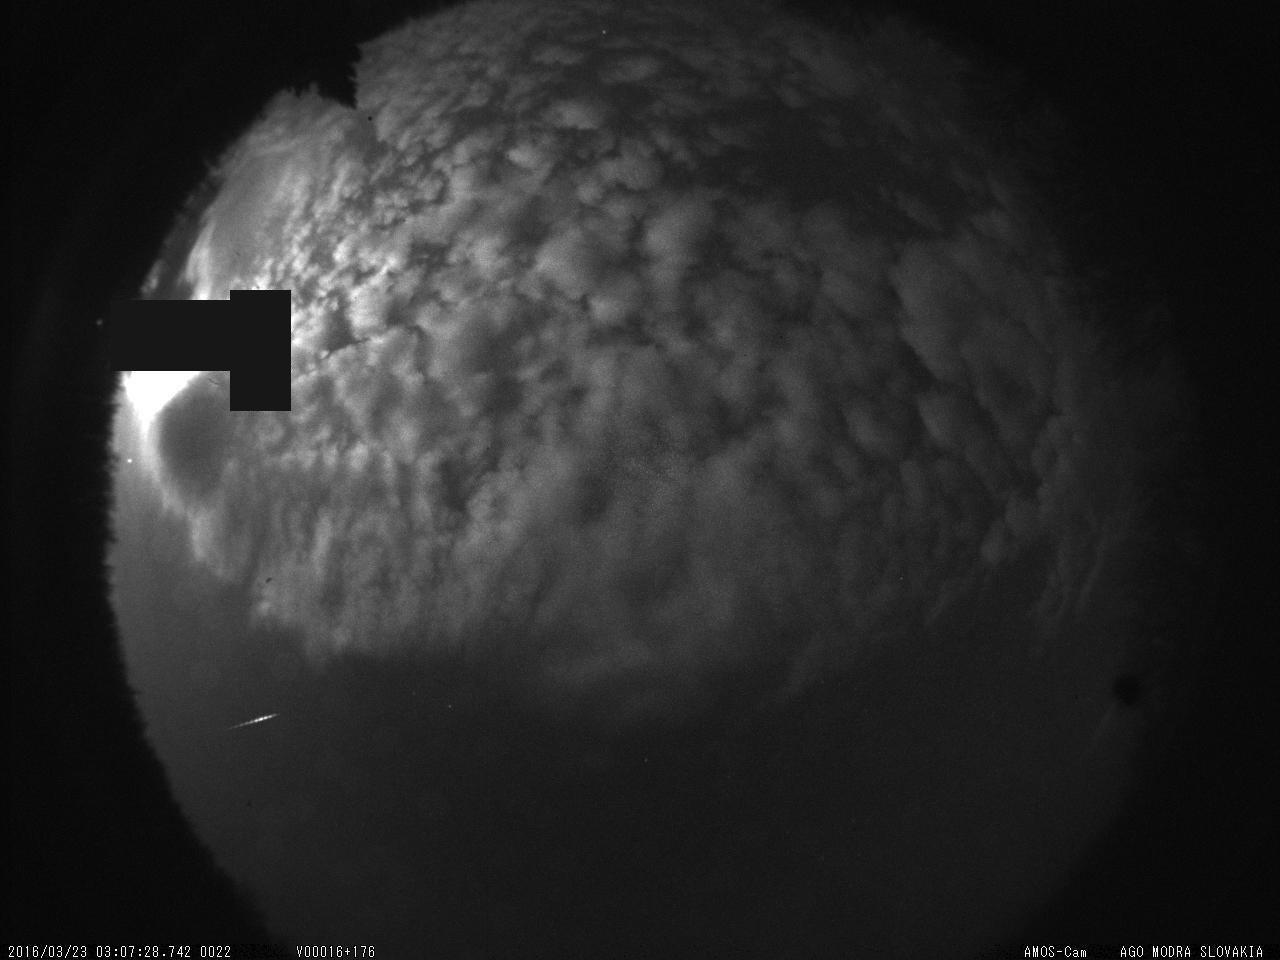meteor: (217, 704, 287, 737)
